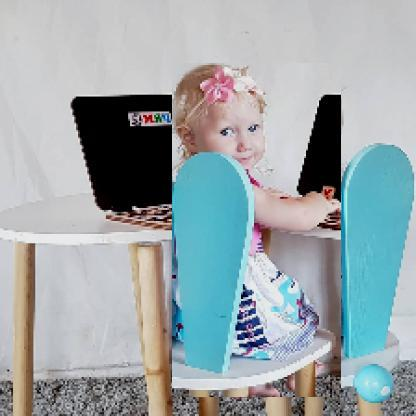child: (173, 64, 343, 399)
